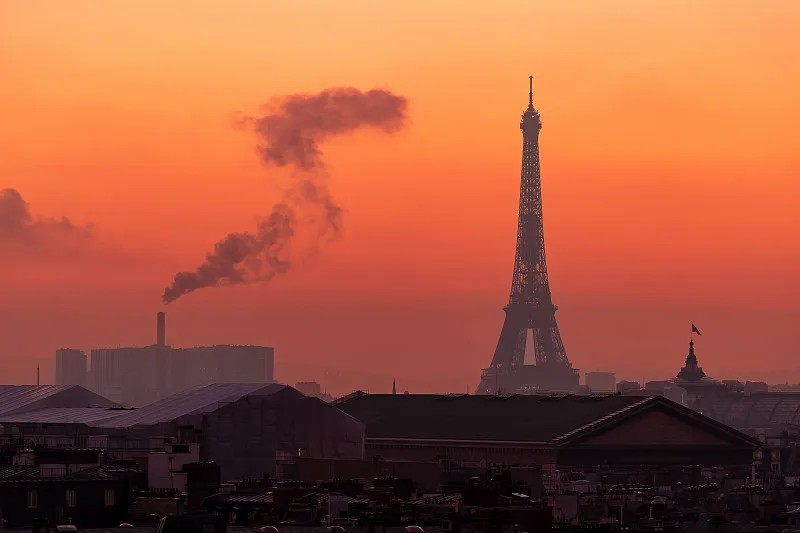Eiffel: (475, 75, 580, 395)
